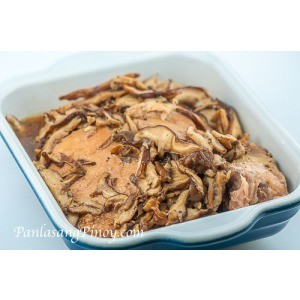mushroom_brain food: (77, 100, 235, 196)
